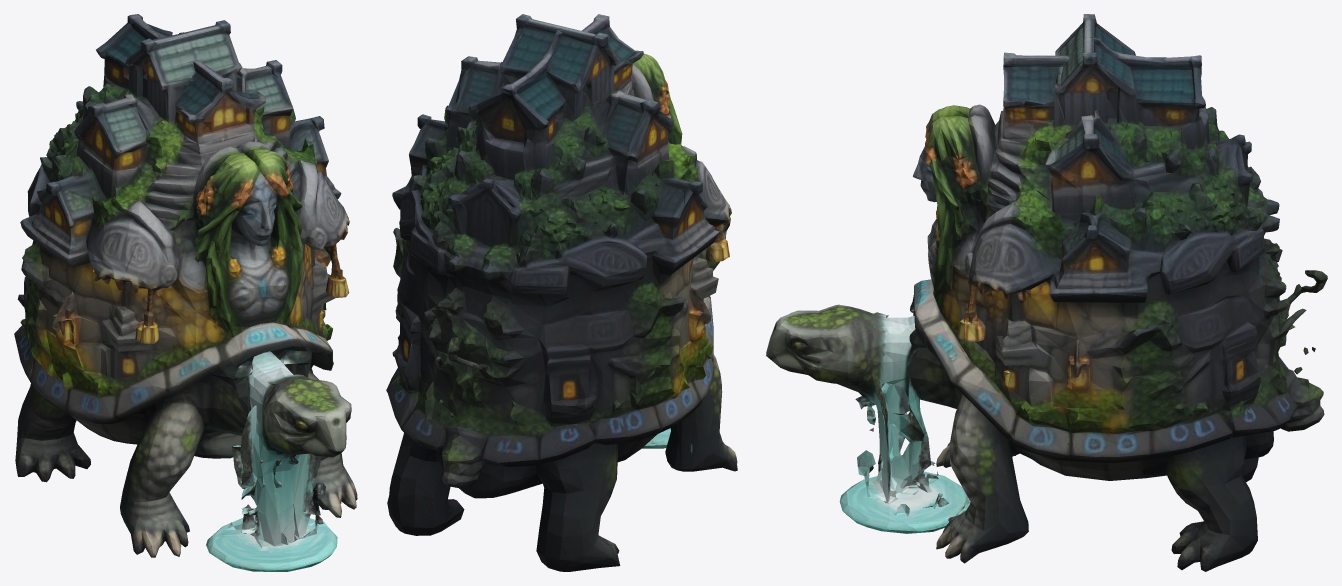
Rendered from shellmund__mountainMother.glb.
3 views of the same model, side by side, from view 1: azimuth 30°, elevation 25°; view 2: azimuth 150°, elevation 25°; view 3: azimuth 270°, elevation 25° (orthographic). The views are drawn at different scales.
Visible parts, largest first — view 1: world; view 2: world; view 3: world.
Part boxes in pixels (x1,y1,x2,y2): world: [14, 14, 357, 571]; world: [386, 14, 737, 571]; world: [766, 14, 1327, 571].
Bounding box in the file's own units: 0.6089 × 0.9528 × 0.9989.
1 material, 1 textured.
